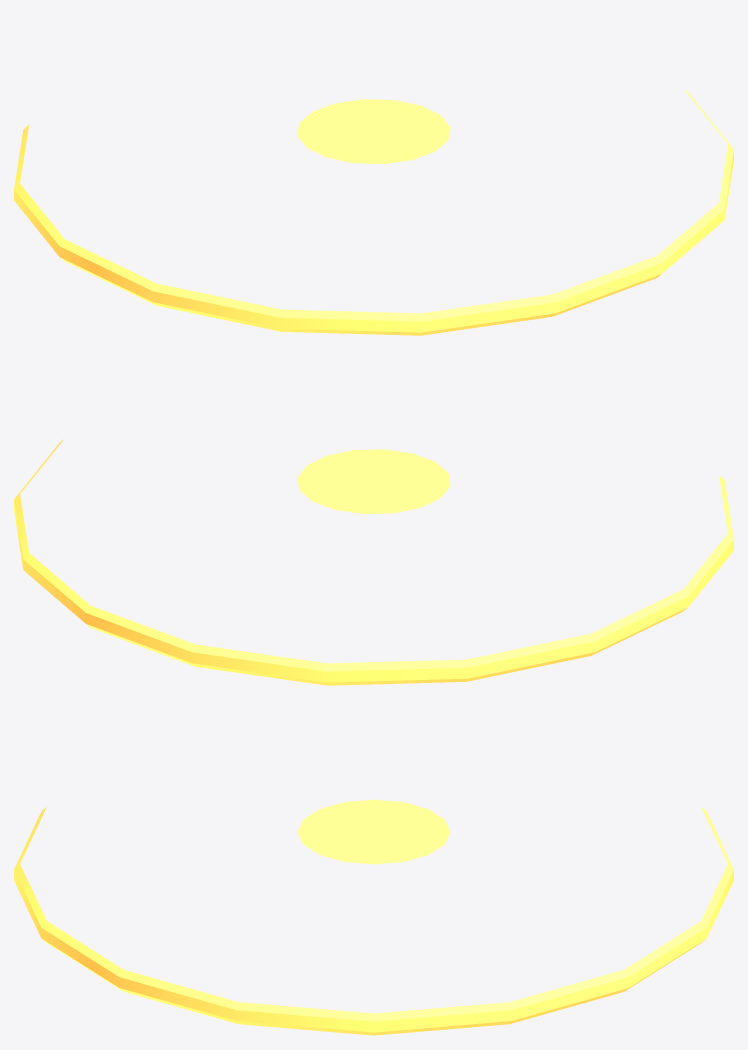
File: orangeGlow.glb
3 renders of one model, top to bottom at view 1: azimuth 30°, elevation 25°; view 2: azimuth 150°, elevation 25°; view 3: azimuth 270°, elevation 25°, orthographic.
Visible parts, largest first — view 1: orangeGlow; view 2: orangeGlow; view 3: orangeGlow.
Part boxes in pixels (box(x1,y1,x2,y2)): orangeGlow: box(14, 89, 733, 335); orangeGlow: box(14, 439, 733, 685); orangeGlow: box(14, 799, 733, 1035).
Size of the model in its own units: 0.4906 by 0.0645 by 0.4906.
